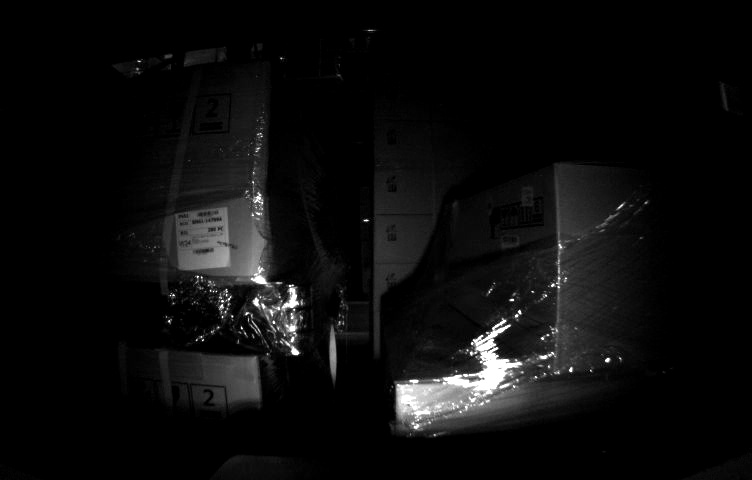True Barcode: (172, 205, 231, 269)
